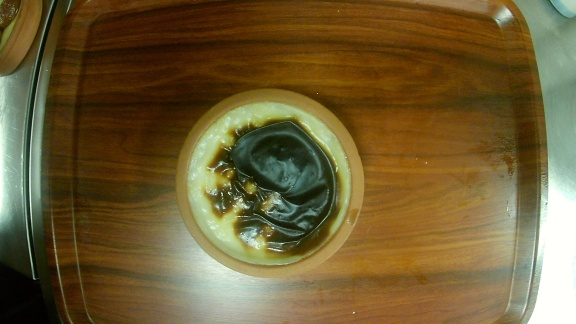sutlac: (175, 88, 366, 278)
